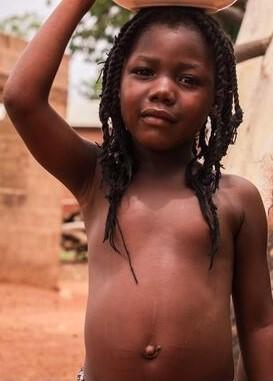Healthy: (87, 0, 237, 192)
